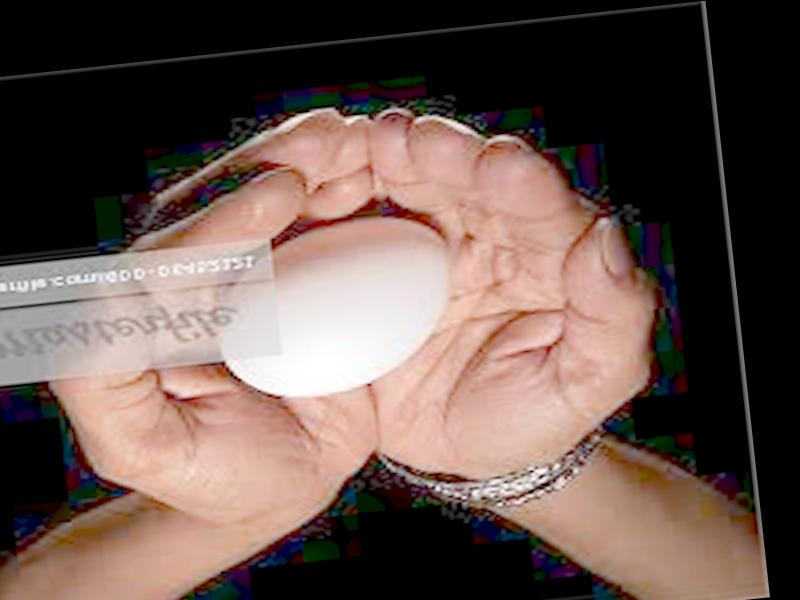Eggs: (216, 208, 464, 402)
